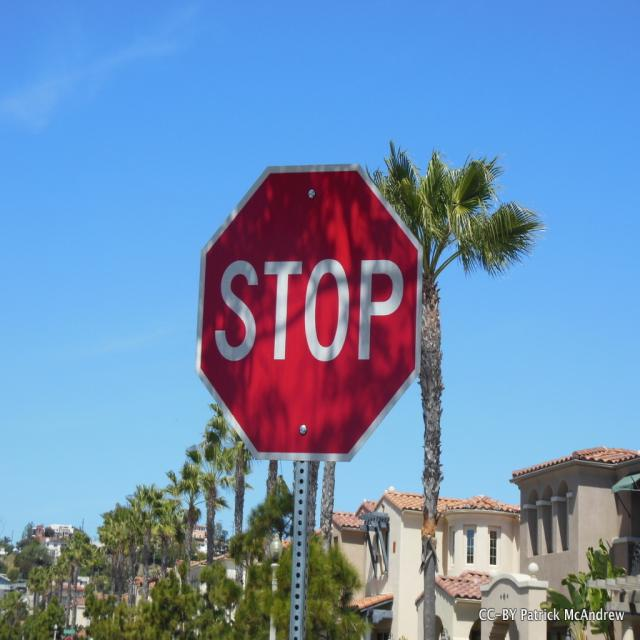Stop-sign: (193, 160, 426, 463)
